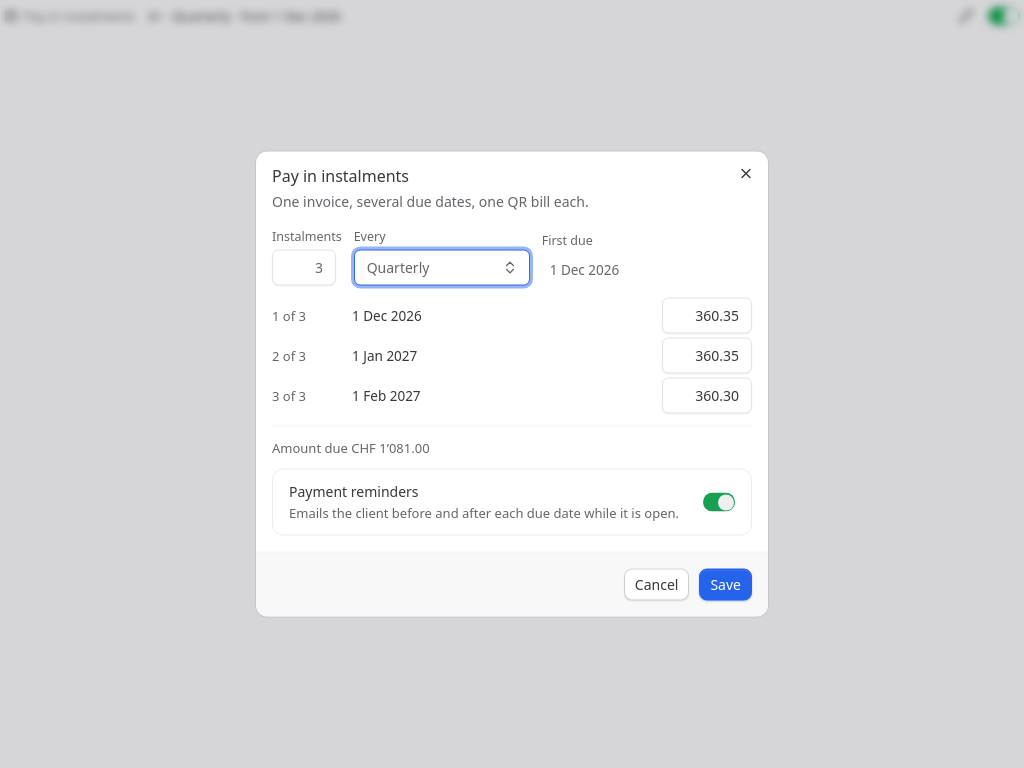
Edit changes the schedule; Cancel there keeps what was saved
Earlier steps of the test are not shown.
Step 1. Click the switch named "Payment reminders" → (719, 502), box top-left (703, 493), bottom-right (735, 511)
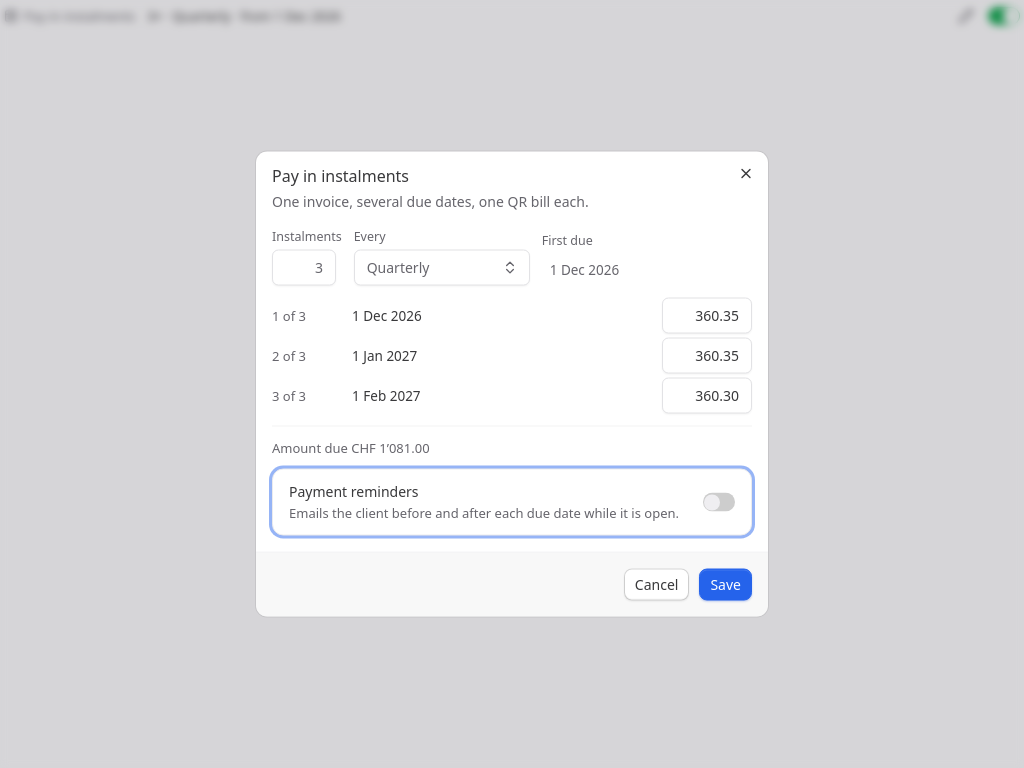
Step 2. Click the button "Save" → (726, 584), box top-left (699, 568), bottom-right (752, 600)
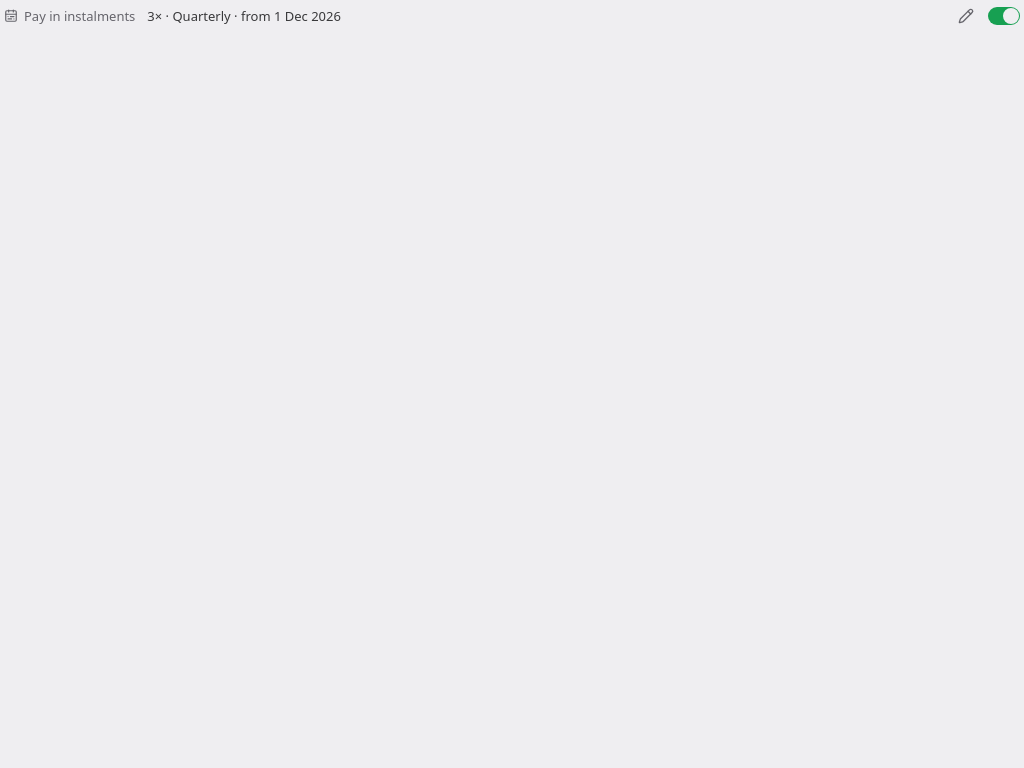
Check: the text "3× · Quarterly · from 1 Dec 2026" is shown, box top-left (147, 7), bottom-right (341, 25)
Step 3. Click the button named "Edit instalments" → (966, 16), box top-left (952, 2), bottom-right (980, 30)
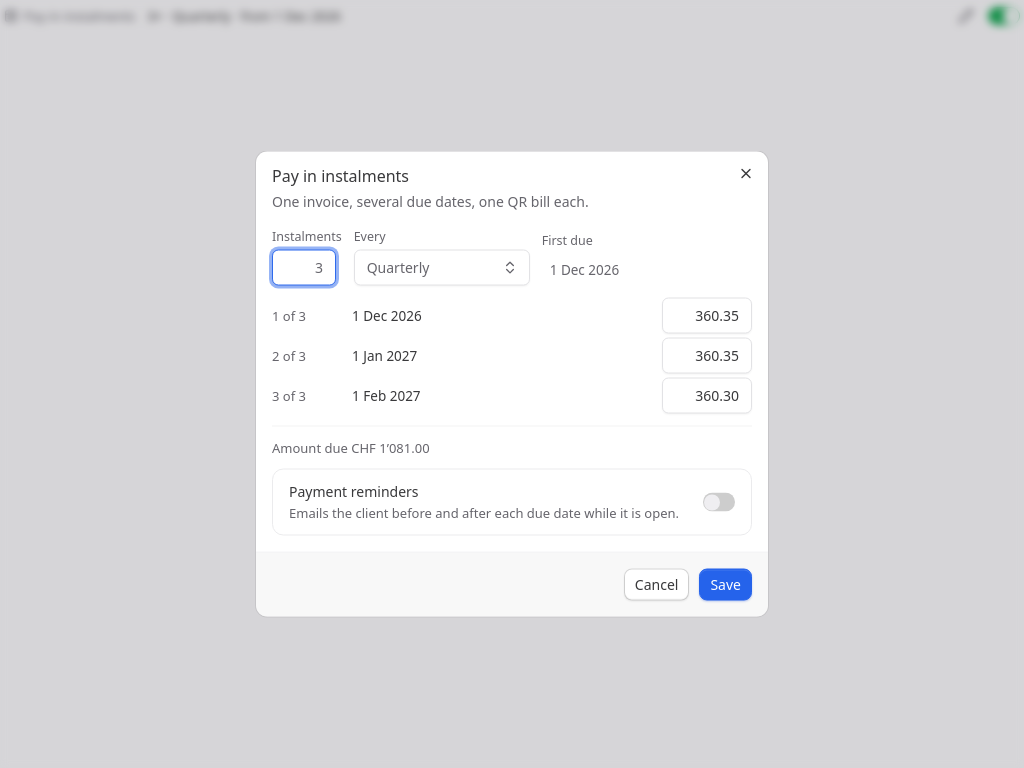
Check: the switch named "Payment reminders" is not checked, box top-left (703, 493), bottom-right (735, 511)
Step 4. Replace the text in the field named "Number of instalments" with "6" → (304, 267), box top-left (272, 249), bottom-right (336, 285)
Step 5. Click the switch named "Payment reminders" → (719, 502), box top-left (703, 493), bottom-right (735, 511)
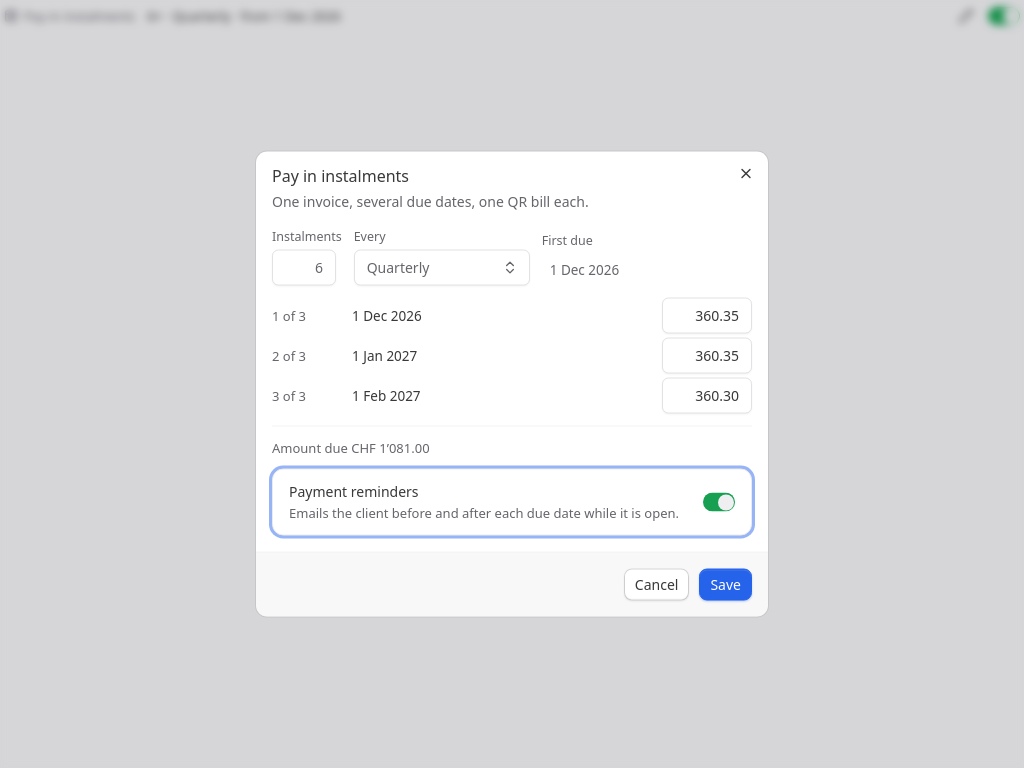
Step 6. Click the button "Cancel" → (657, 584), box top-left (624, 568), bottom-right (689, 600)
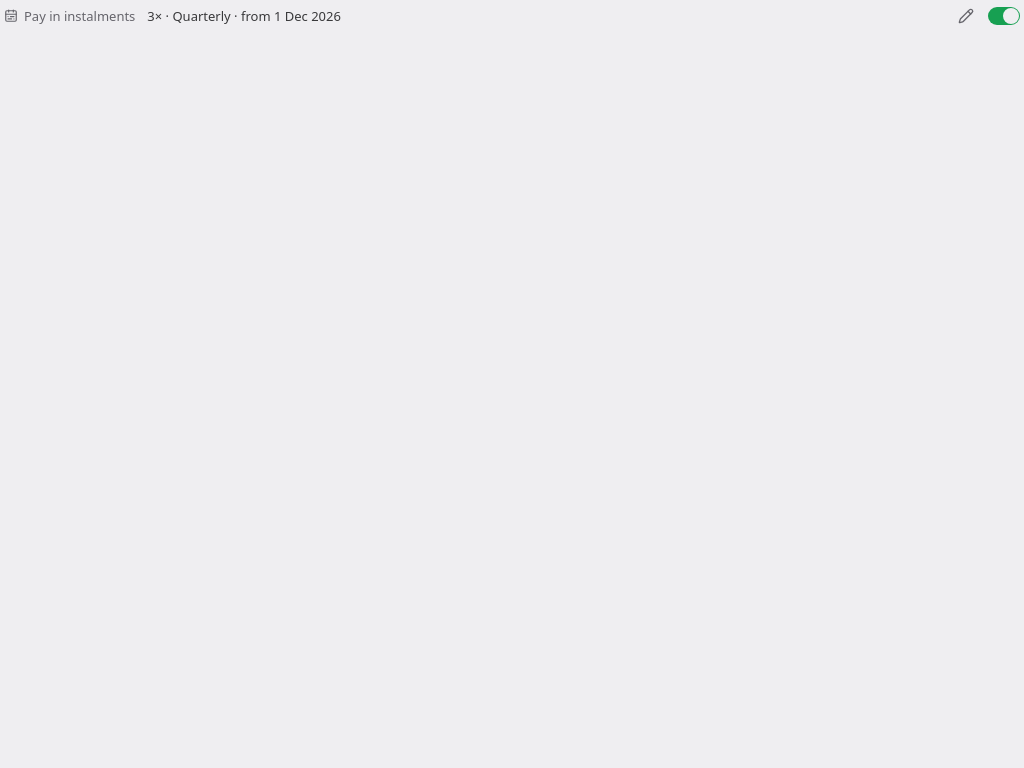
Check: the text "3× · Quarterly · from 1 Dec 2026" is shown, box top-left (147, 7), bottom-right (341, 25)
Step 7. Click the button named "Edit instalments" → (966, 16), box top-left (952, 2), bottom-right (980, 30)
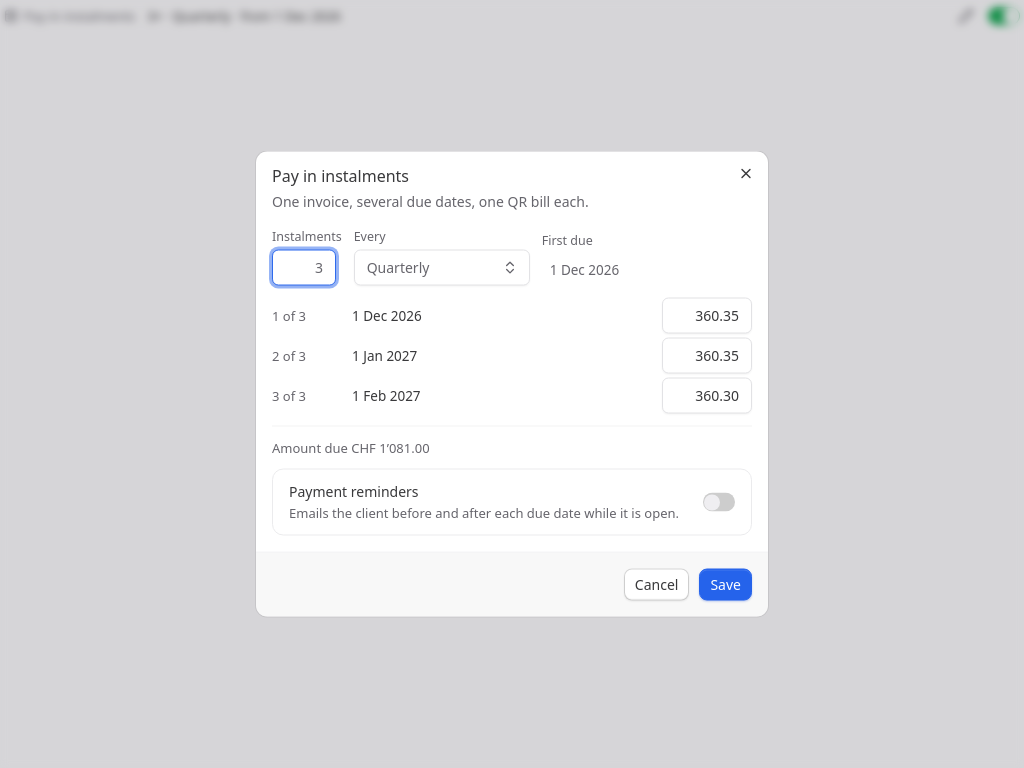
Check: the switch named "Payment reminders" is not checked, box top-left (703, 493), bottom-right (735, 511)
